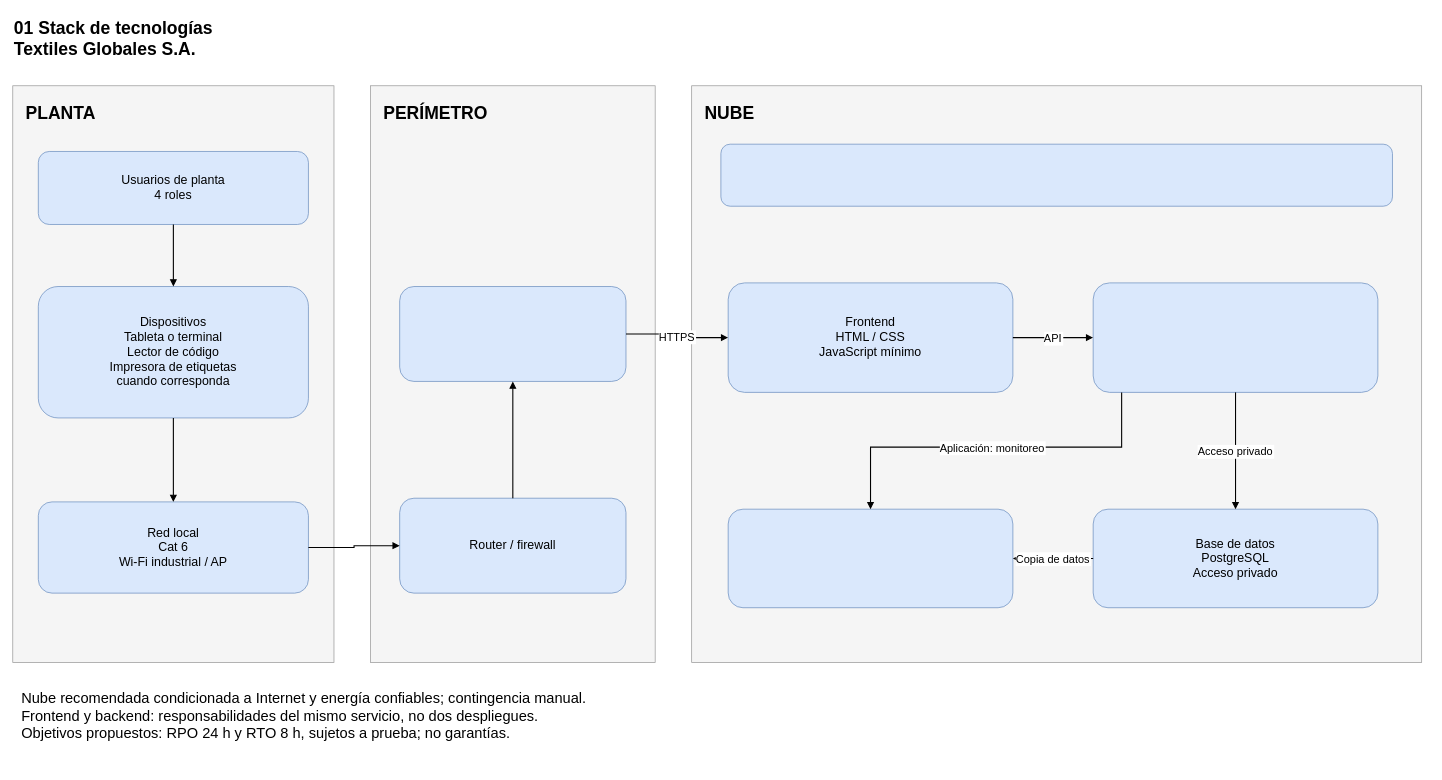
Image size: 1442x780. Some labels were removed from this diagram. Each missing label, with the centre of its shape:
"Backend / API Django Monolito modular" goes at [1235,337].
"Internet" goes at [512,333].
"Respaldo y monitoreo Copia separada Alertas" goes at [870,558].
"Servicio administrado Una aplicación: frontend y backend" goes at [1056,174].
